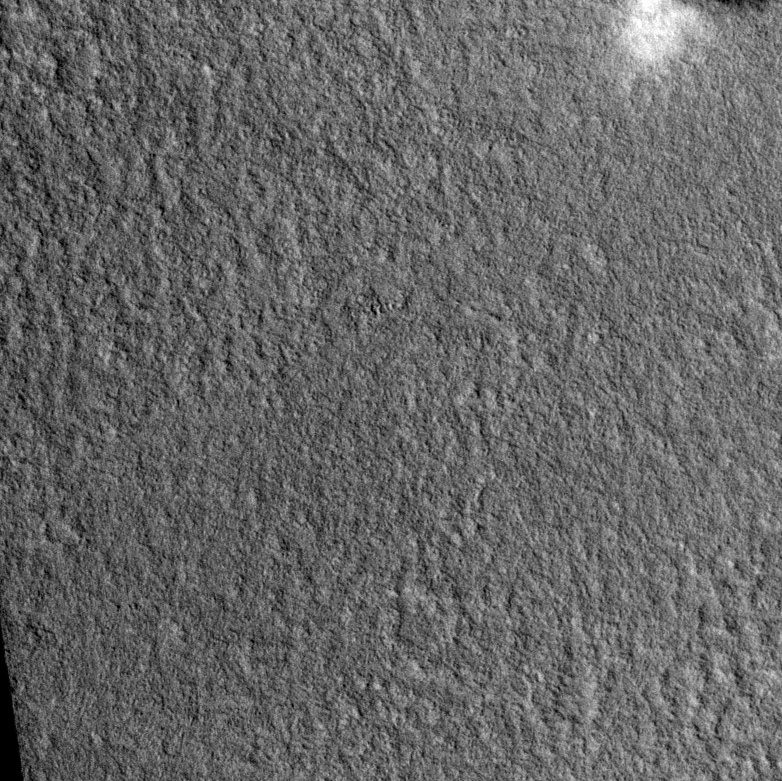dust_devil: (622, 1, 772, 67)
